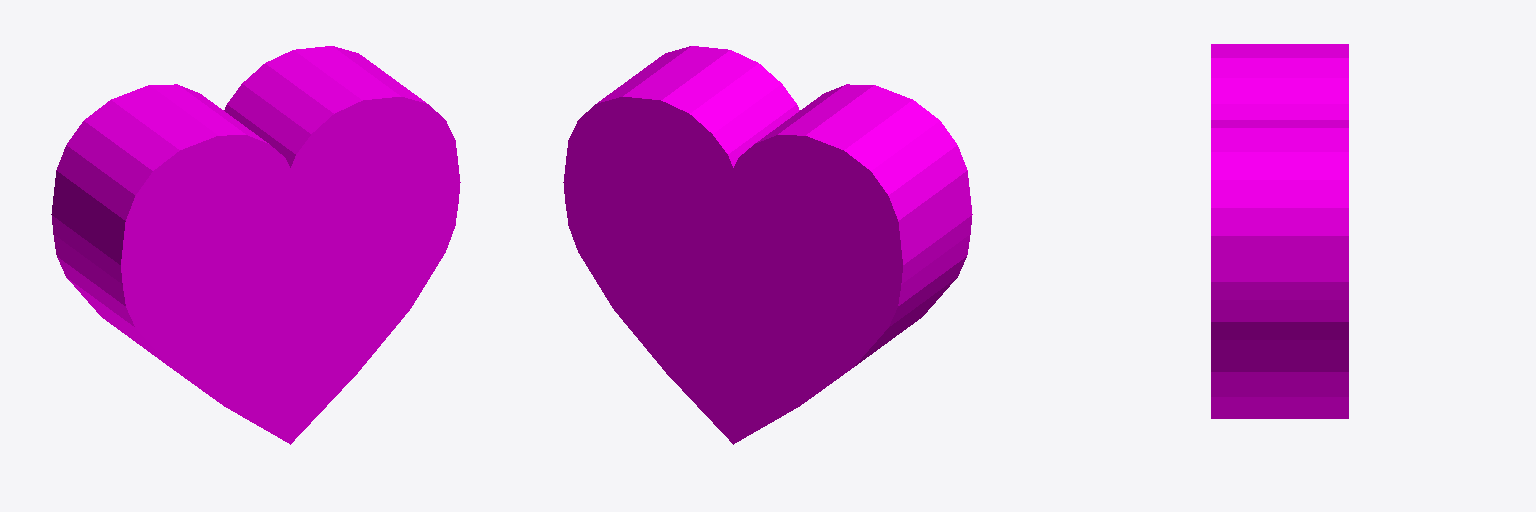
File: tinker.obj
The picture shows the model from 3 angles: view 1: azimuth 30°, elevation 25°; view 2: azimuth 150°, elevation 25°; view 3: azimuth 270°, elevation 25°; orthographic projection.
Visible parts, largest first — view 1: obj_0; view 2: obj_0; view 3: obj_0.
Boxes of the visible parts, box(x1,y1,x2,y2) form: obj_0: box(51, 46, 460, 444); obj_0: box(563, 46, 972, 444); obj_0: box(1211, 44, 1348, 418).
Bounding box in the file's own units: 28.31 × 26 × 10.